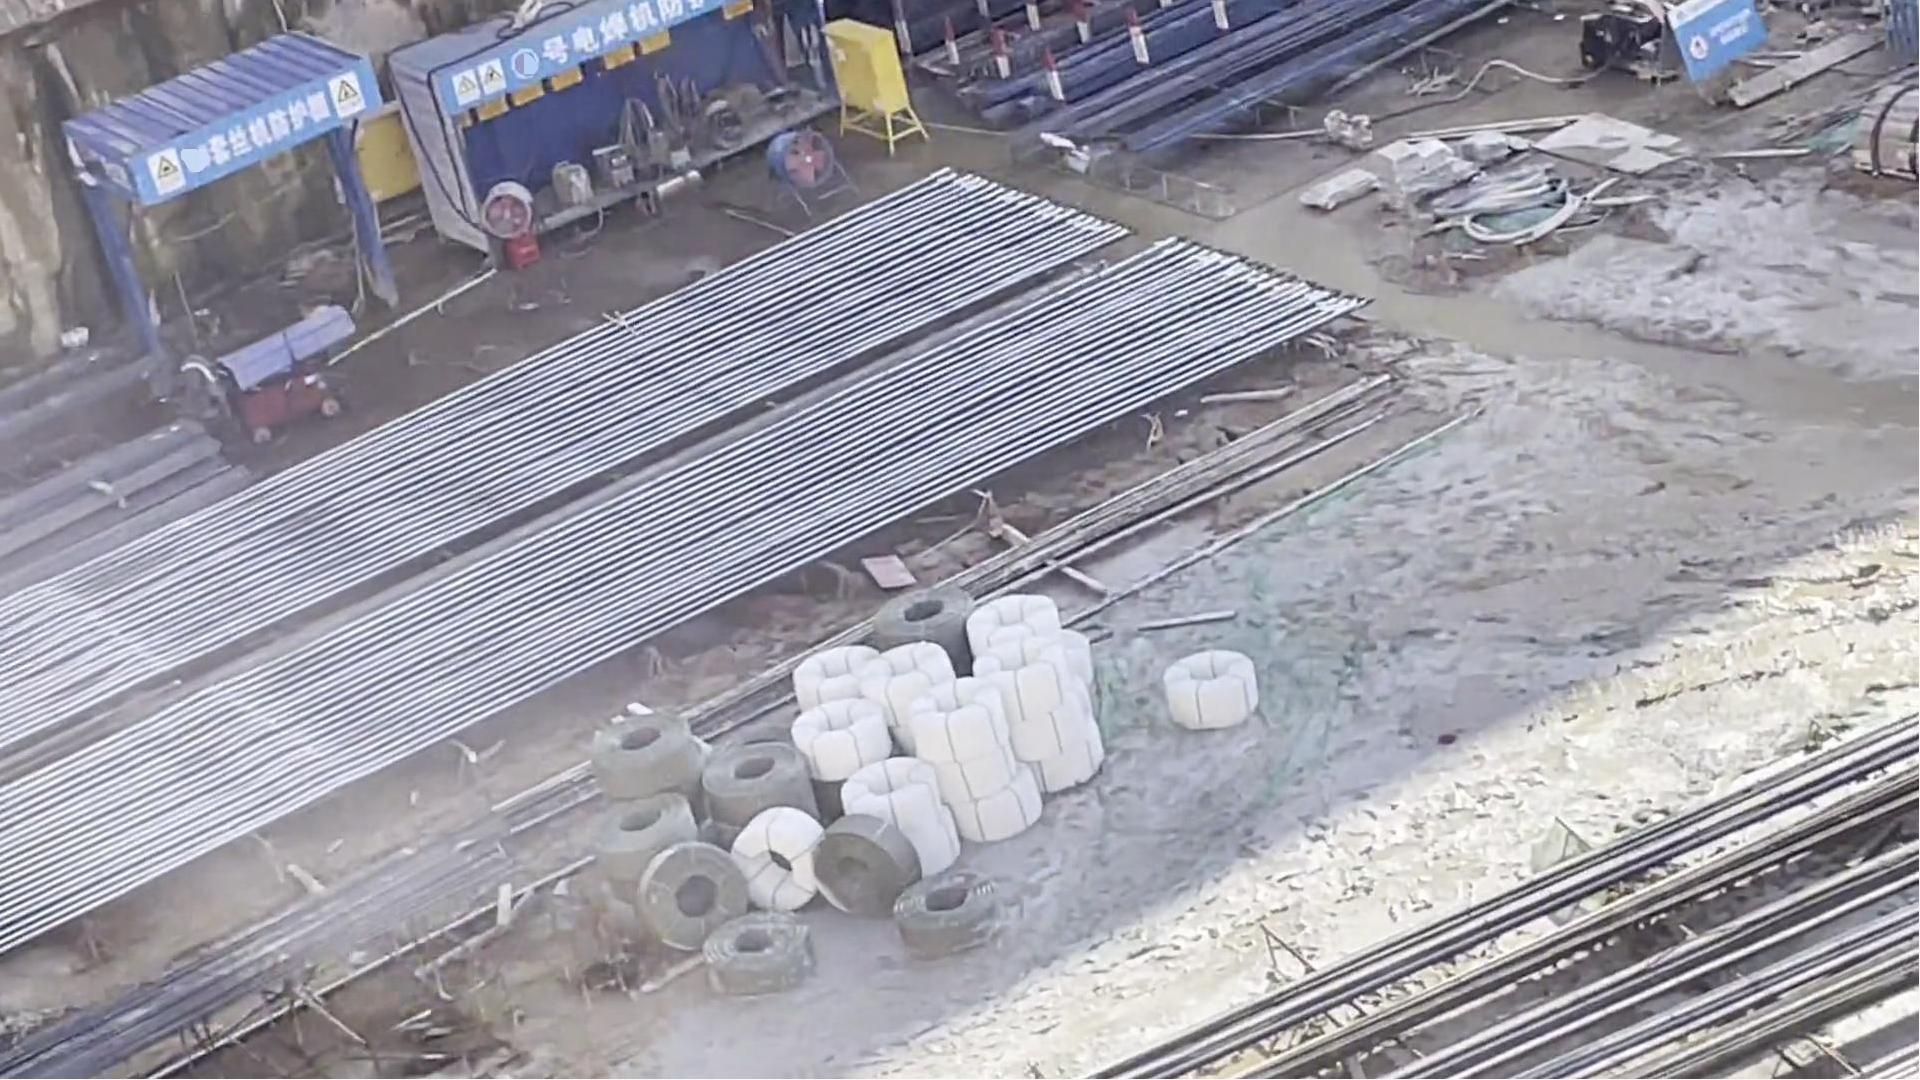ebox: (818, 11, 932, 150)
fence: (522, 1, 682, 83), (179, 90, 328, 175), (1669, 1, 1766, 79), (450, 58, 506, 117), (145, 142, 181, 198), (326, 75, 365, 119)
rebar: (3, 222, 1382, 953), (1, 164, 1126, 764), (1047, 723, 1920, 1076), (945, 1, 1511, 154)
